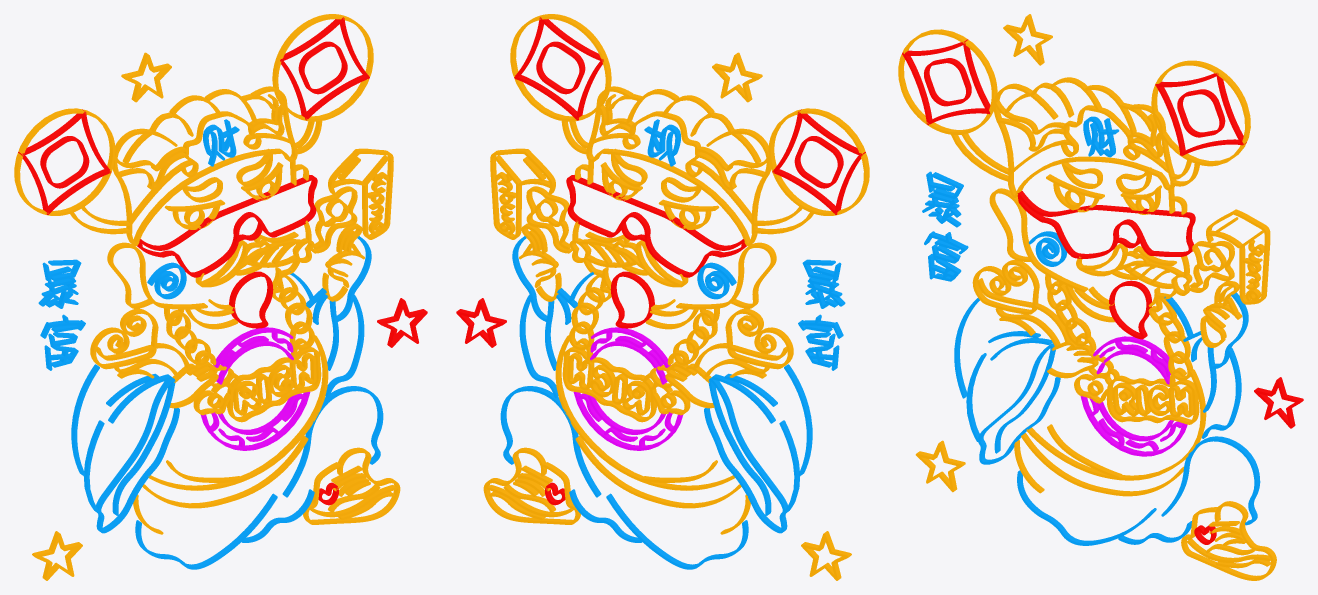
3 renders of one model, left to right at view 1: azimuth 30°, elevation 25°; view 2: azimuth 150°, elevation 25°; view 3: azimuth 330°, elevation 25°, orthographic.
Parts seen in each view (by area): view 1: q1; view 2: q1; view 3: q1.
Part boxes in pixels (x1,y1,x2,y2): q1: [14, 14, 427, 580]; q1: [456, 14, 869, 580]; q1: [898, 14, 1303, 580].
Bounding box in the file's own units: 1637 × 2007 × 23.85.
